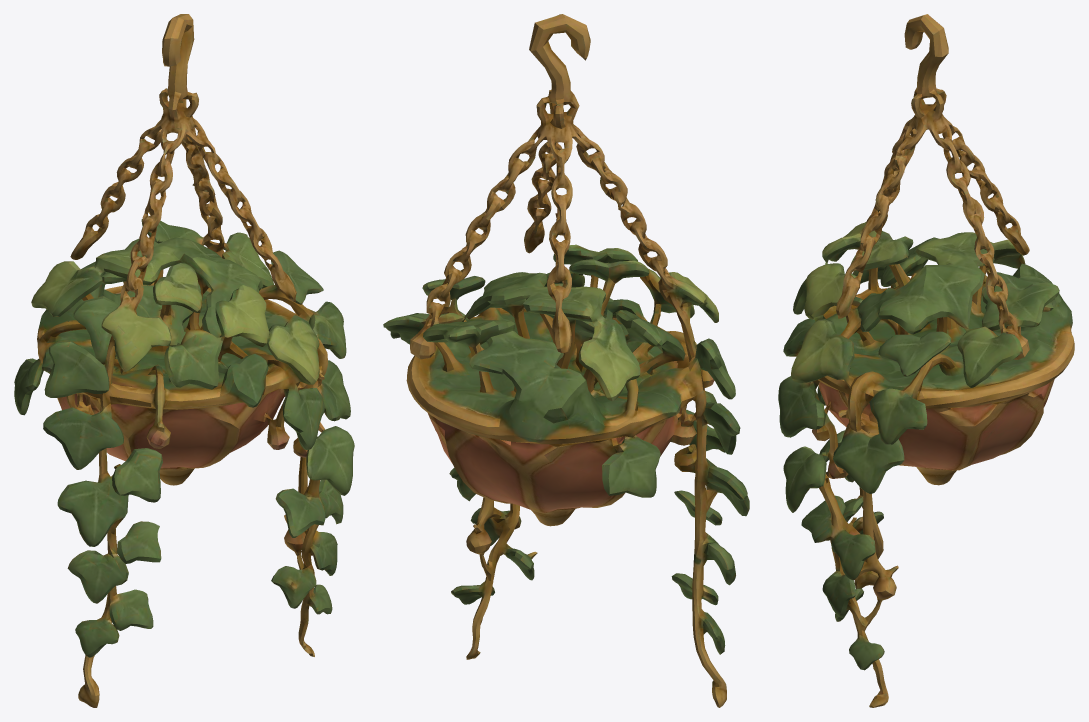
Rendered from Meshy_AI_model.glb.
3 views of the same model, side by side, from view 1: azimuth 30°, elevation 25°; view 2: azimuth 150°, elevation 25°; view 3: azimuth 270°, elevation 25° (orthographic). The views are drawn at different scales.
Parts seen in each view (by area): view 1: Mesh0; view 2: Mesh0; view 3: Mesh0.
Boxes of the visible parts, x1=… form: Mesh0: x1=14, y1=14, x2=354, y2=707; Mesh0: x1=383, y1=14, x2=749, y2=707; Mesh0: x1=778, y1=14, x2=1074, y2=707.
Bounding box in the file's own units: 0.9461 × 1.88 × 0.7907.
Materials: 1 (1 with a texture image).
